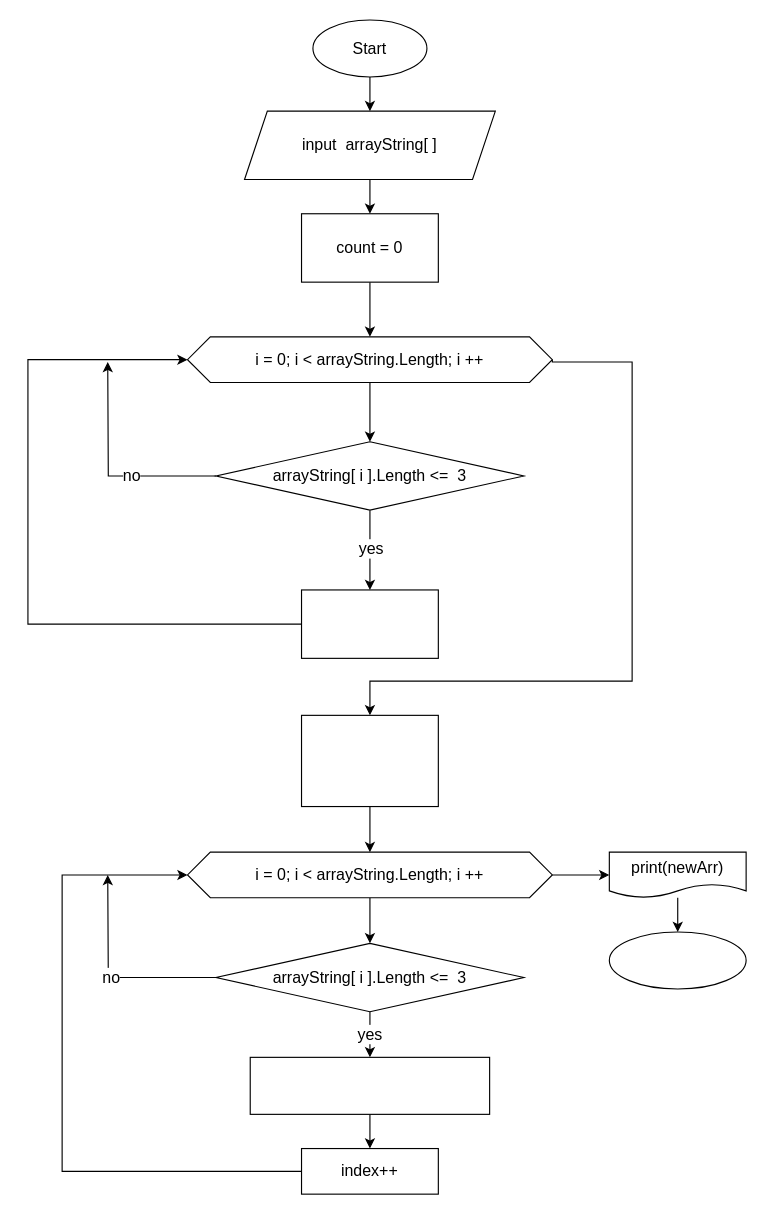
This 766x1214 diagram has some shape labels left out. The shapes that lost their labels are listed below. From the top down, each one's centre as x and y in pixels, then its label:
At (369,623): "count ++".
At (369,760): "newArr [ count ] index = 0".
At (677,960): "end".
At (369,1085): "newArr[ index ] = arrayString[ i ]".
